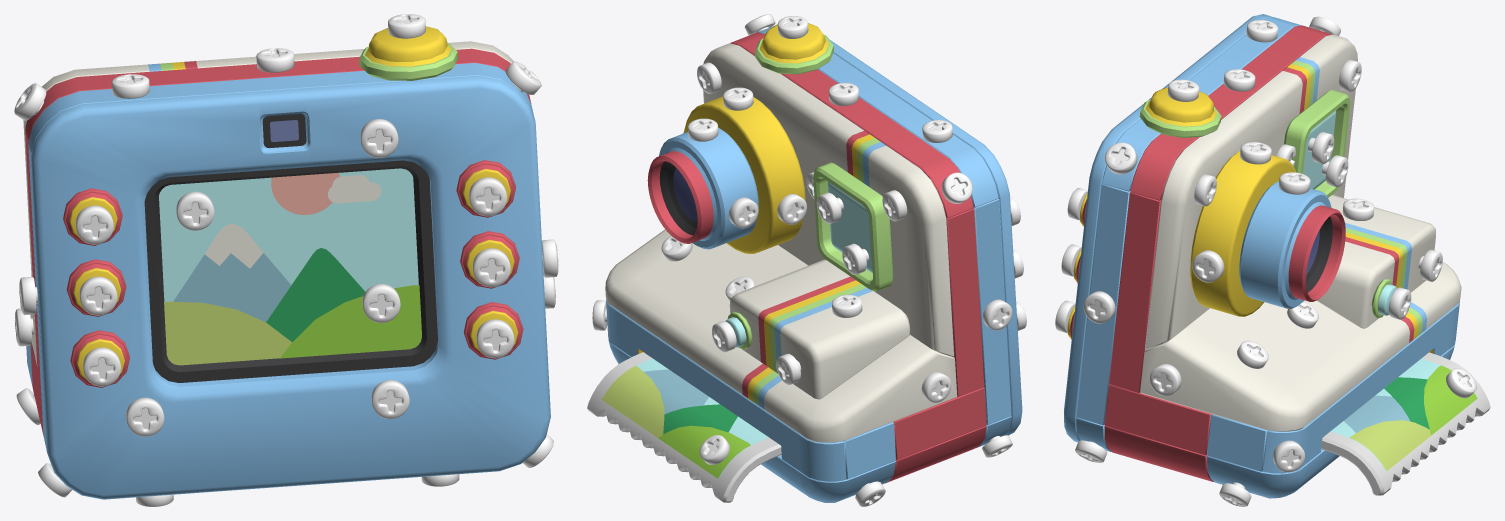
The model's file is Camera_GroupE.fbx.
3 renders of one model, left to right at view 1: azimuth 30°, elevation 25°; view 2: azimuth 150°, elevation 25°; view 3: azimuth 270°, elevation 25°, orthographic. The views are drawn at different scales.
Parts seen in each view (by area): view 1: Camera_014, Camera_021, Screw (×17), Camera_019, Camera_024, Camera_005, Camera_015, Camera_013, Camera_020, Camera_009, Camera_011, Camera_008 (+3 smaller); view 2: Camera_018, Camera_015, Camera_002, Screw (×20), Camera_023, Camera_006, Camera_007, Camera_017, Camera_003, Camera_022, Camera_030, Camera_024 (+8 smaller); view 3: Camera_018, Camera_015, Screw (×22), Camera_023, Camera_006, Camera_002, Camera_007, Camera_029, Camera_031, Camera_014, Camera_017, Camera_024 (+9 smaller).
Part boxes in pixels (x1,y1,x2,y2): Camera_014: (31, 75, 550, 499); Camera_021: (144, 160, 437, 382); Screw (×17): (14, 14, 541, 436); Camera_019: (28, 63, 534, 152); Camera_024: (25, 48, 531, 139); Camera_005: (359, 26, 458, 80); Camera_015: (23, 41, 513, 276); Camera_013: (66, 259, 126, 316); Camera_020: (463, 302, 523, 359); Camera_009: (460, 231, 519, 288); Camera_011: (63, 188, 122, 245); Camera_008: (456, 160, 515, 217); Camera_018: (605, 229, 957, 442); Camera_015: (703, 43, 954, 357); Camera_002: (729, 259, 910, 399); Screw (×20): (661, 16, 1012, 506); Camera_023: (587, 352, 781, 502); Camera_006: (647, 127, 758, 249); Camera_007: (684, 96, 805, 253); Camera_017: (606, 300, 846, 481); Camera_003: (813, 162, 893, 291); Camera_022: (946, 208, 984, 396); Camera_030: (973, 199, 1011, 424); Camera_024: (730, 32, 973, 218); Camera_018: (1140, 262, 1461, 431); Camera_015: (1145, 34, 1357, 349); Screw (×22): (1075, 20, 1476, 506); Camera_023: (1321, 352, 1490, 495); Camera_006: (1239, 181, 1345, 308); Camera_002: (1316, 195, 1435, 328); Camera_007: (1190, 151, 1295, 316); Camera_029: (1109, 192, 1161, 392); Camera_031: (1076, 184, 1130, 425); Camera_014: (1064, 14, 1271, 442); Camera_017: (1262, 300, 1459, 473); Camera_024: (1130, 25, 1331, 200).
Size of the model in its own units: 9.8 by 8.2 by 8.67.
2 materials, 1 textured.
